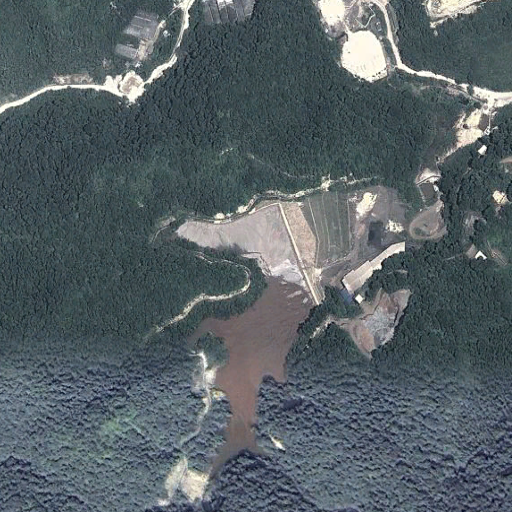tp: (174, 189, 351, 476)
